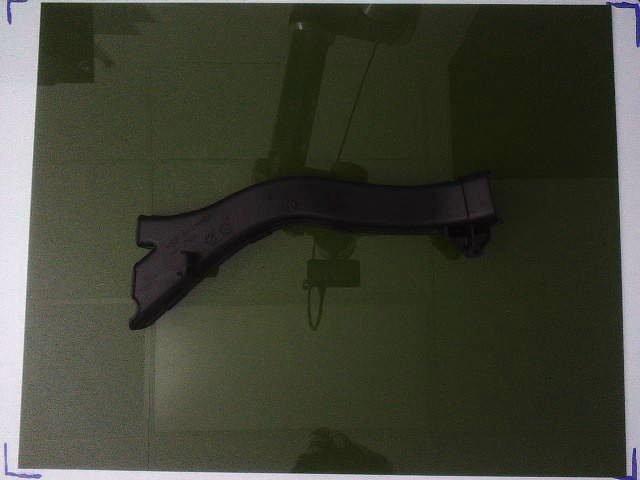887_A-Top: (128, 170, 497, 333)
